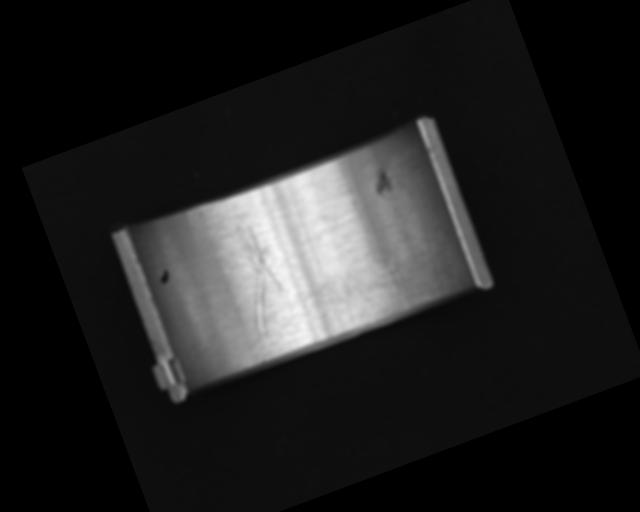blot: (155, 266, 173, 286)
bruise: (369, 168, 396, 198)
nick: (212, 216, 306, 363)
scratch: (315, 232, 436, 336)
